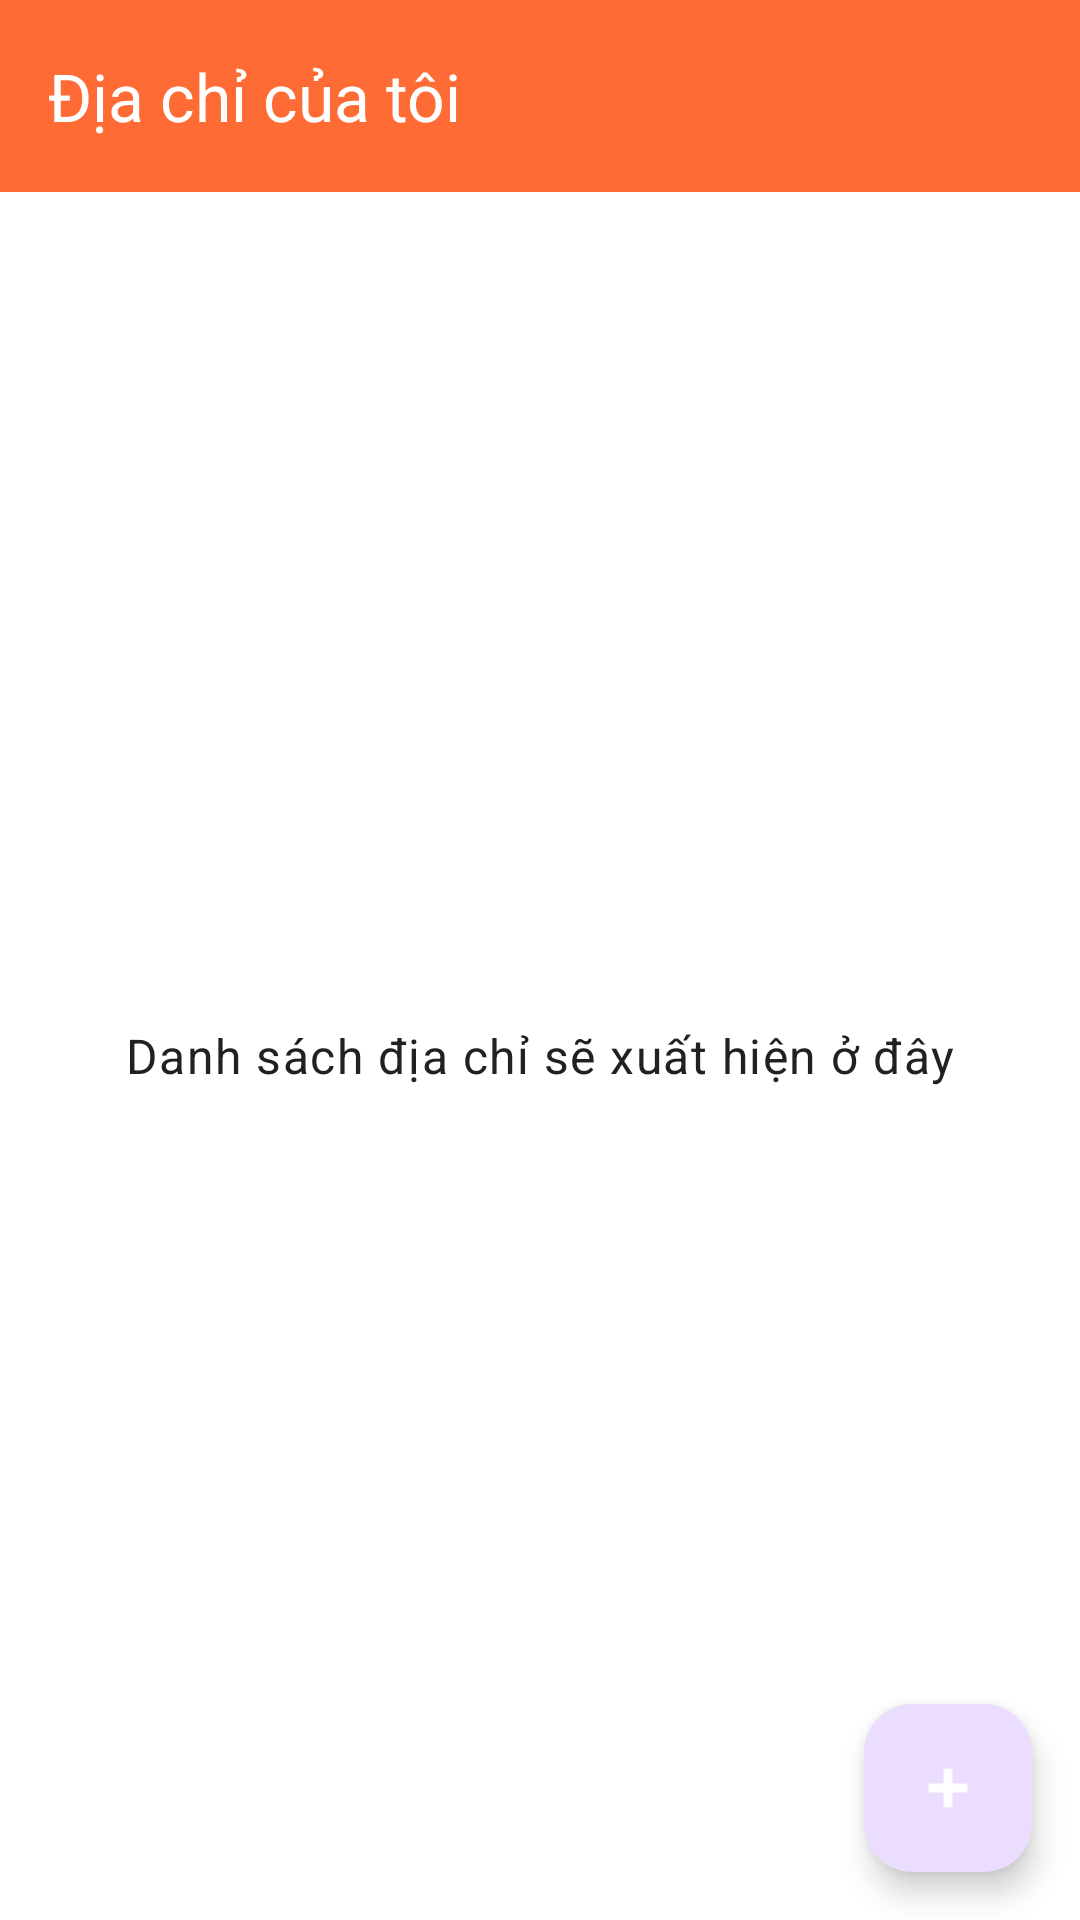

Point at icon controls on the screen. Image size 1080 x 1920, points as [x,y].
Thêm địa chỉ mới: [948,1788]
